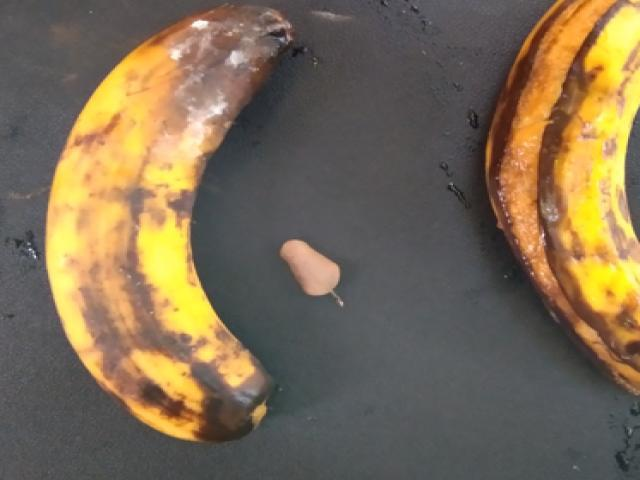rotten: (33, 0, 314, 467), (468, 0, 639, 387)
